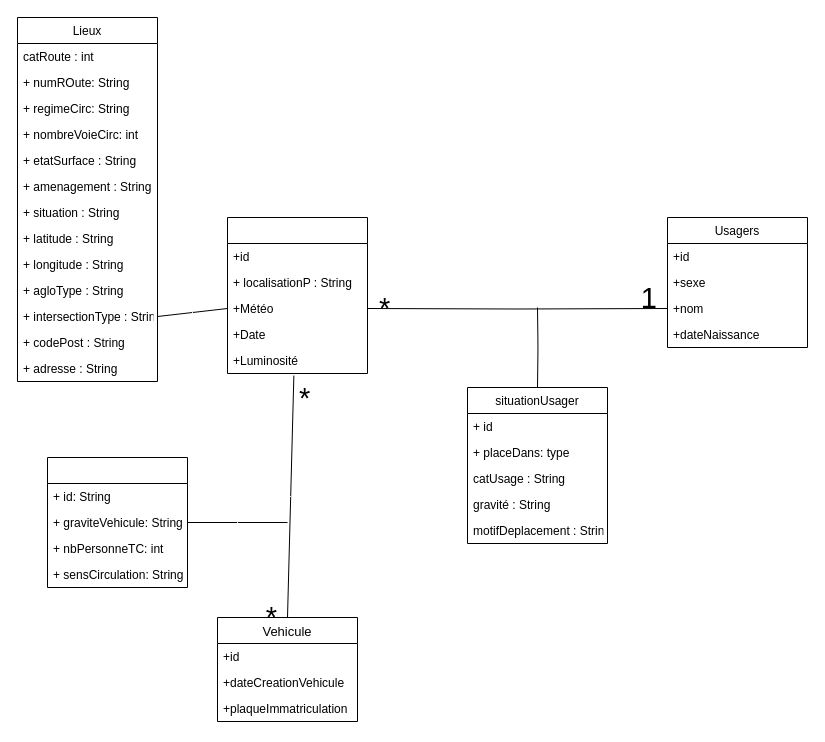
The diagram is 825 pixels wide and 742 high, and some of its shapes have lost their labels. The box of each missing label's shape, as (x1, y1, x2, y2) in pixels:
Accident: (226, 216, 368, 374)
situationVehicule: (46, 456, 188, 588)
